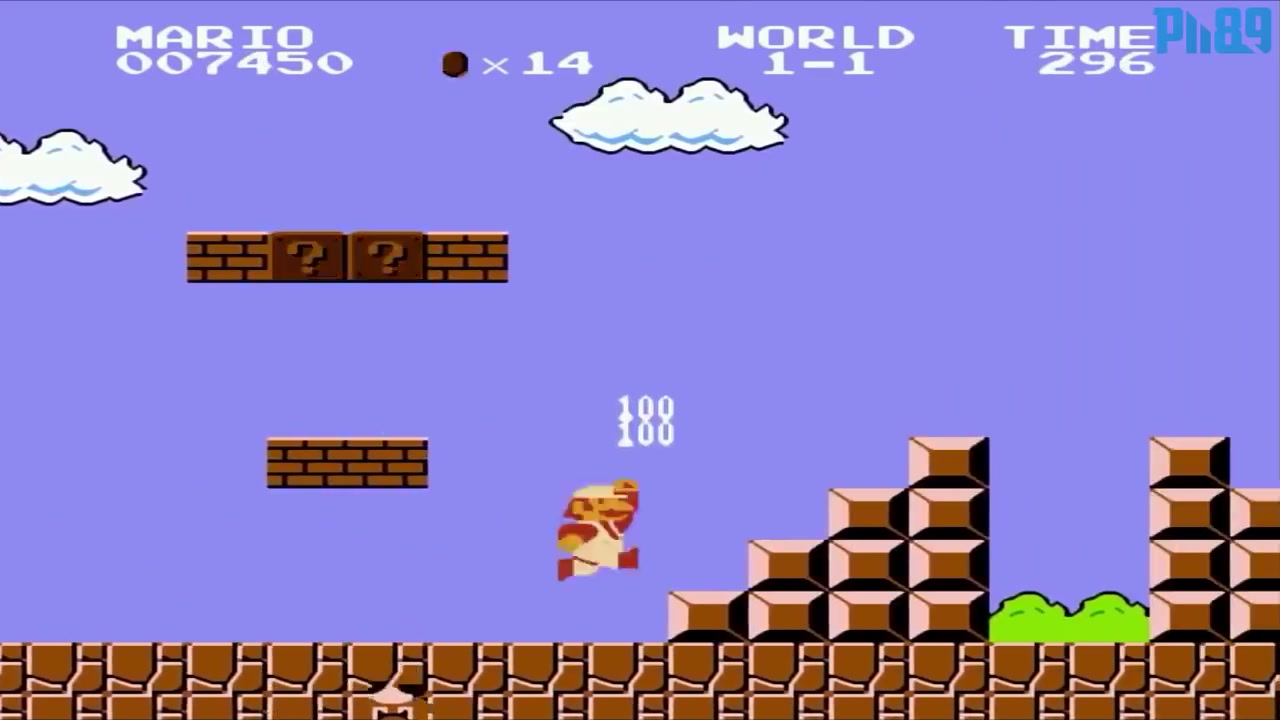mario: (548, 474, 647, 583)
